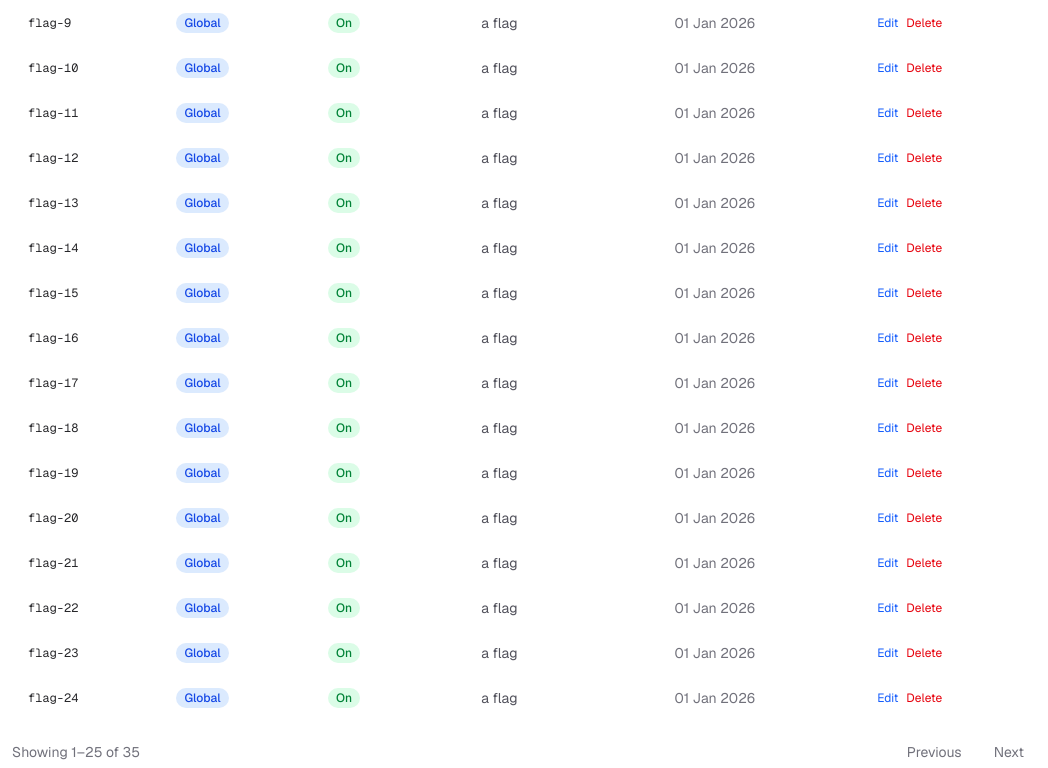
FeatureFlagsClient › pagination › Next then Previous returns to offset 0 (round trip)
The width and height of the screenshot is (1048, 768).
(page scrolled)
Click the button "Next".
click(1009, 752)  # box [982,736,1036,767]
(page scrolled)
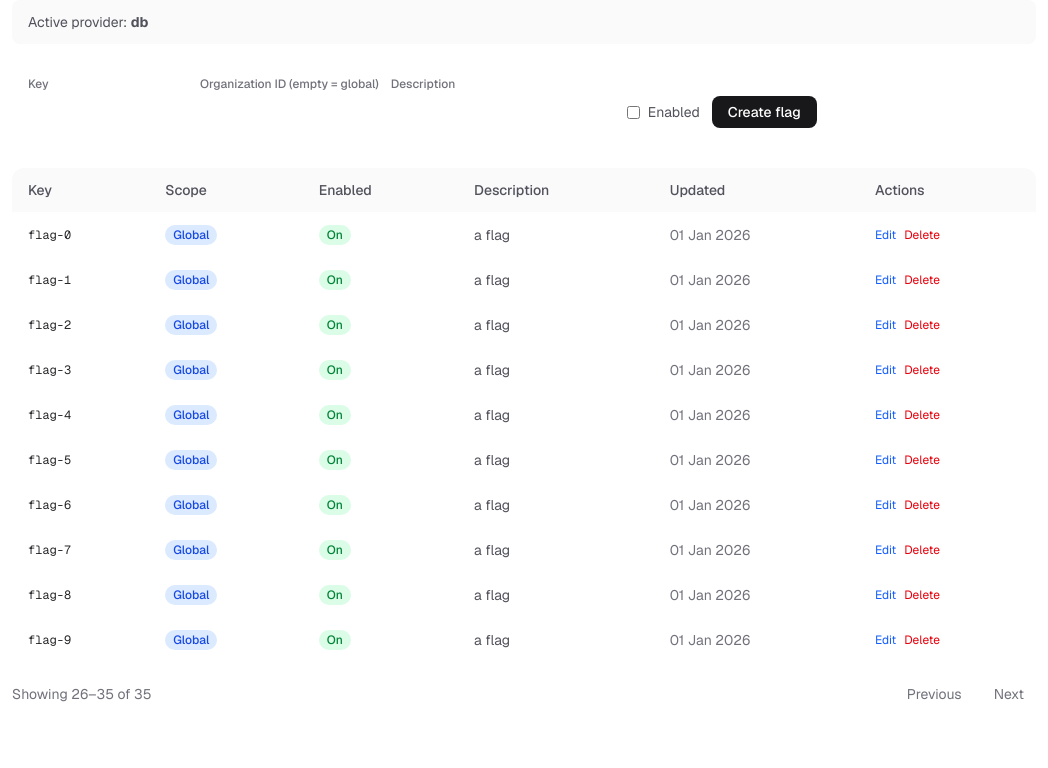
Expected: the text "Showing 26–35 of 35" is shown, [12,684,152,704]
Expected: the button "Next" is disabled, [982,678,1036,710]
Click the button "Previous".
click(934, 694)  # box [895,678,974,710]
(page scrolled)
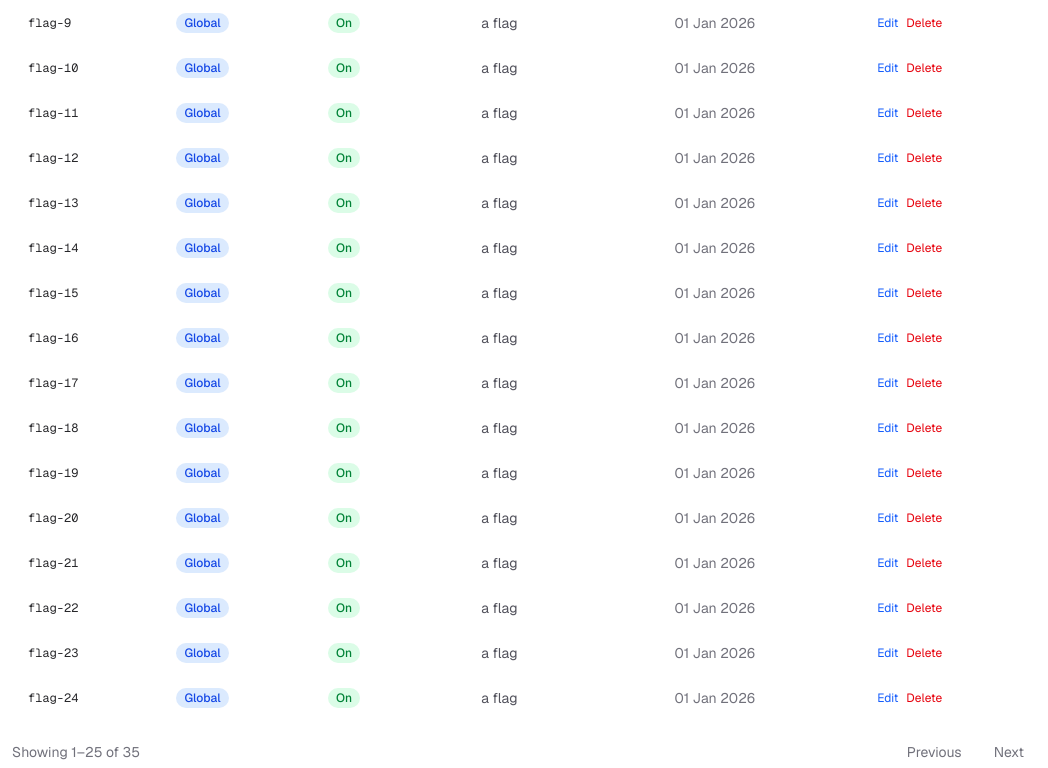
Expected: the text "Showing 1–25 of 35" is shown, [12,742,140,762]
